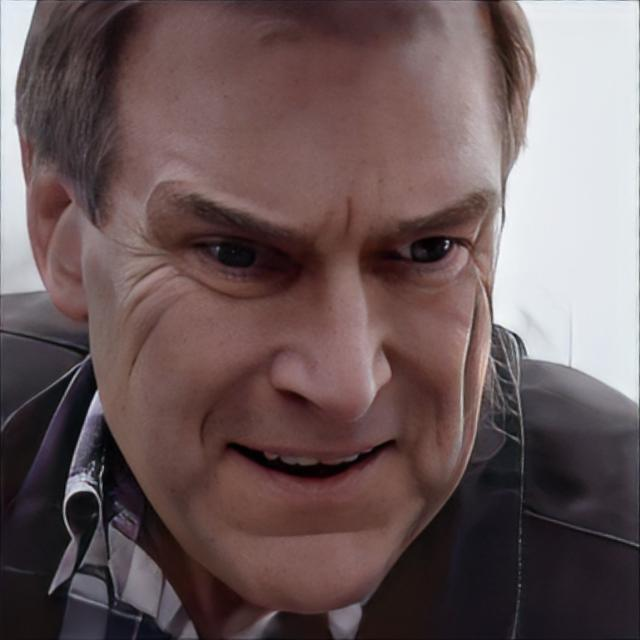anger: (93, 12, 510, 610)
